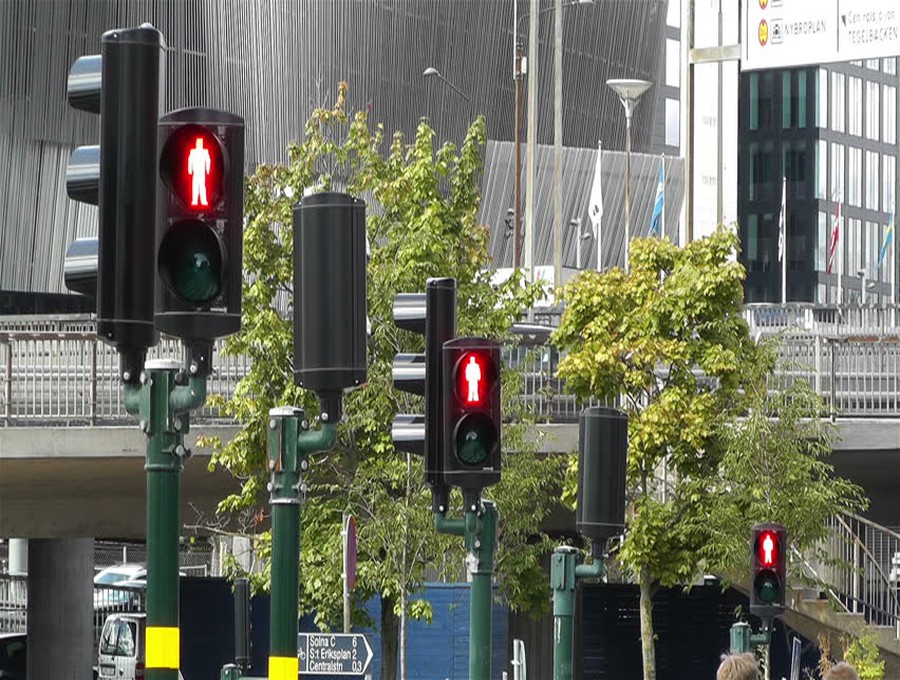Traffic Light-red: (155, 105, 252, 334), (440, 332, 503, 481), (747, 504, 790, 616)
